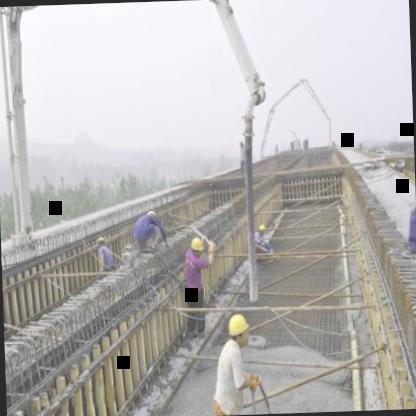helmet: (226, 315, 253, 349), (188, 236, 204, 261), (256, 223, 268, 238)
